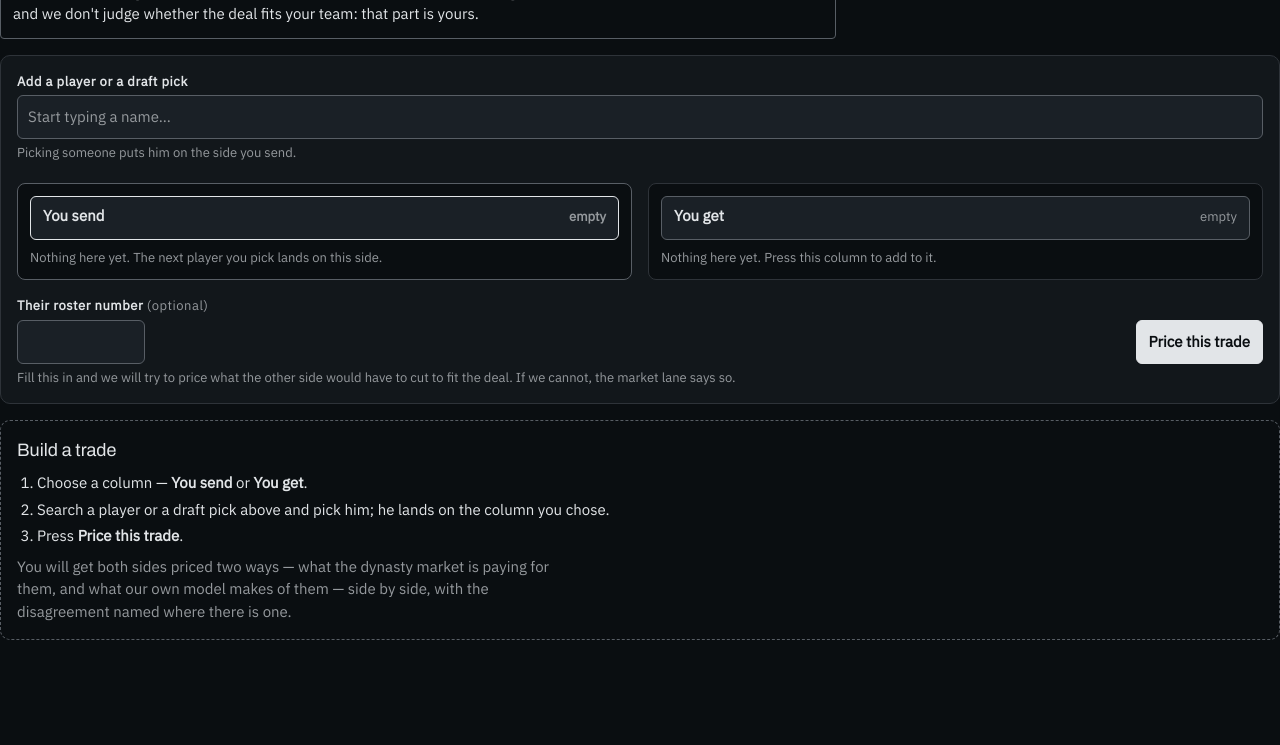
TradeLab honest lane degradation › treats a 200 response that fails Zod parsing as that lane unavailable
In the search field: (640, 117) [17,95,1263,139], type "cha"
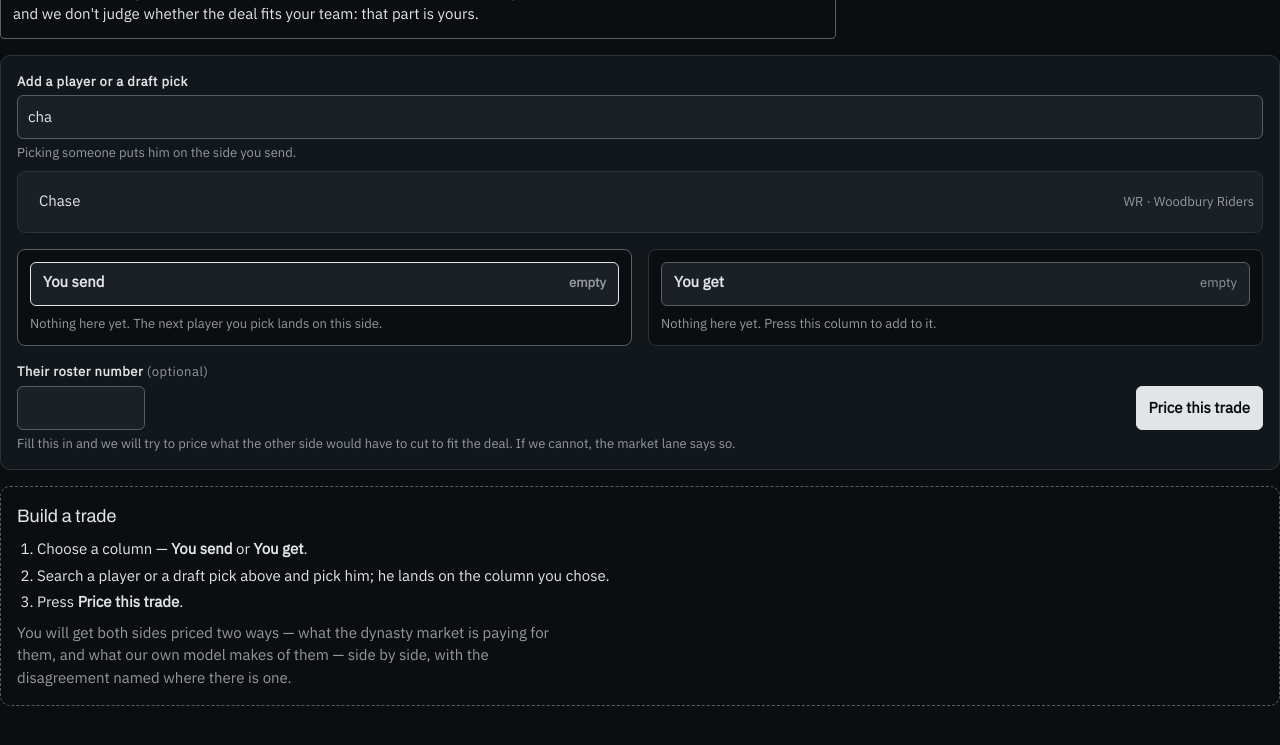
Click the button "Chase": (60, 201) [26,180,1116,224]
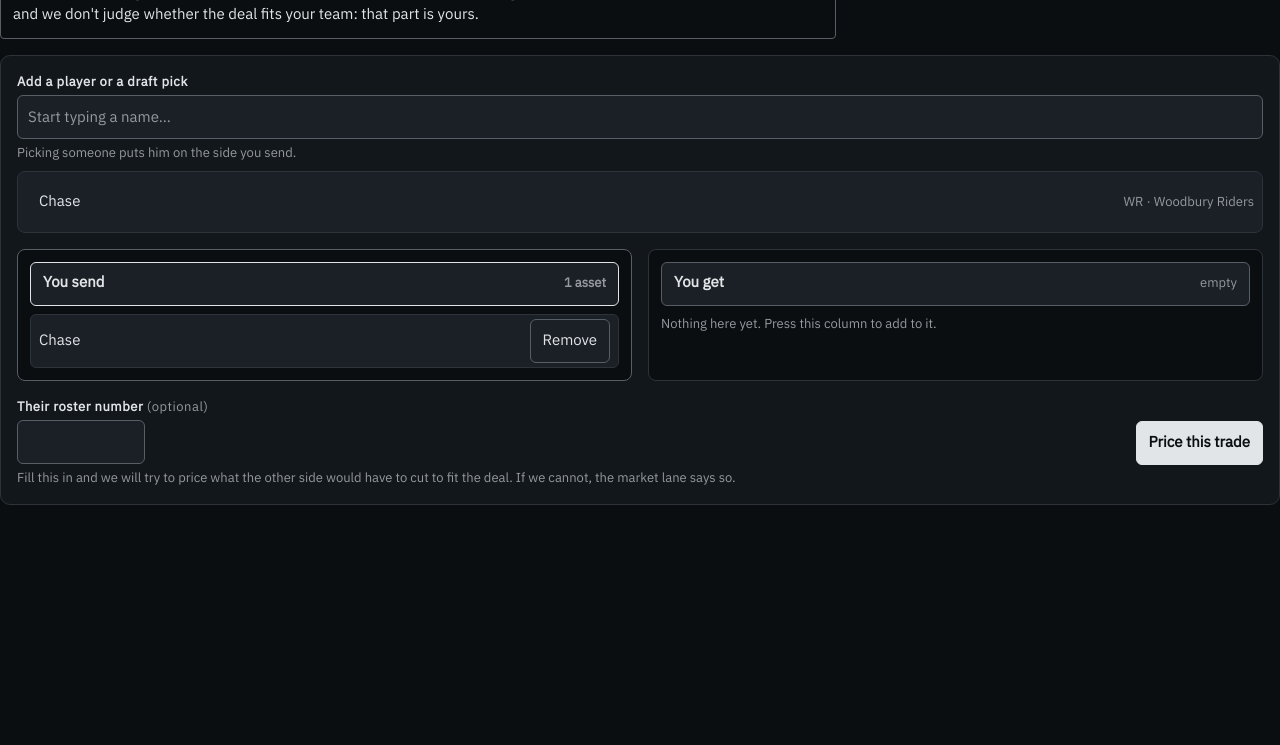
Click the button "Price this trade": (1199, 442) [1136,420,1263,464]
(page scrolled)
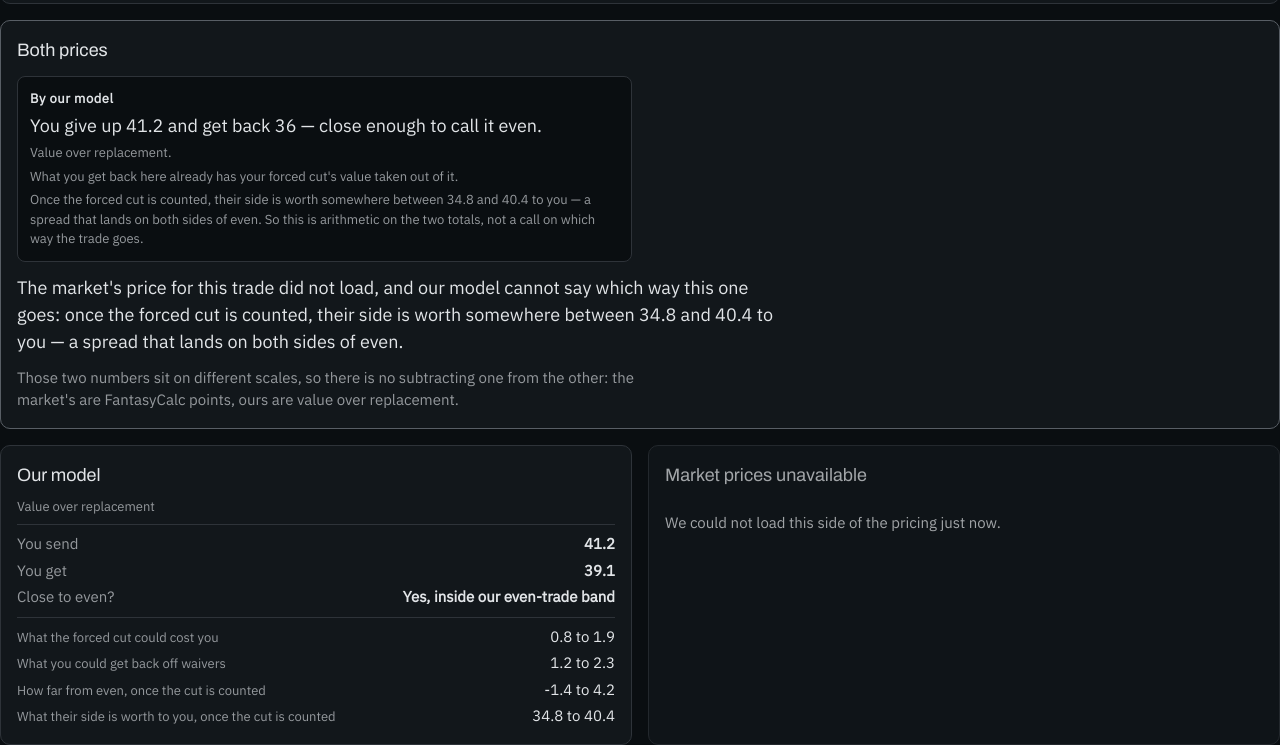
Now the element with test id "model-lane" is shown, box [0,444,632,744]
Now the message "Market prices unavailable We could not load this side of the pricing just now." is shown, box [648,444,1279,744]
Now the text "41.2" is shown, box [584,534,615,553]
